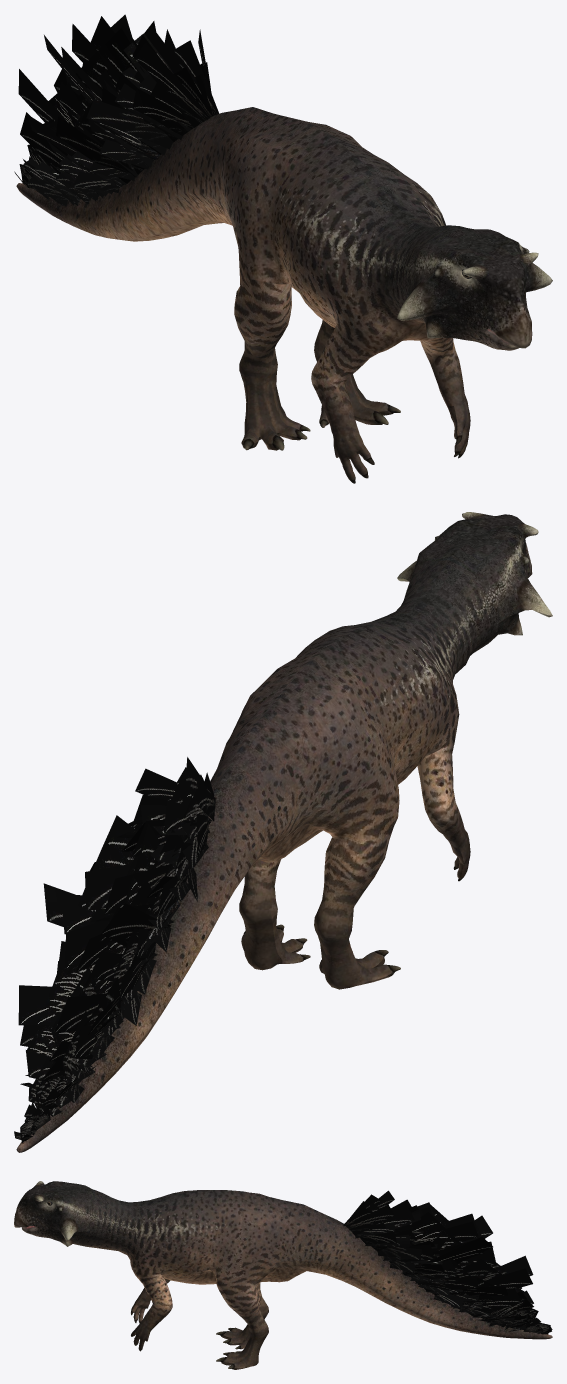
File: Psittacosaurio.glb
The picture shows the model from 3 angles, top to bottom: view 1: azimuth 30°, elevation 25°; view 2: azimuth 150°, elevation 25°; view 3: azimuth 270°, elevation 25°; orthographic projection. The views are drawn at different scales.
Visible parts, largest first — view 1: DW_Psittacosaurio_Ray_mesh; view 2: DW_Psittacosaurio_Ray_mesh; view 3: DW_Psittacosaurio_Ray_mesh.
Part boxes in pixels (x1,y1,x2,y2): DW_Psittacosaurio_Ray_mesh: (14, 14, 552, 483); DW_Psittacosaurio_Ray_mesh: (14, 512, 552, 1152); DW_Psittacosaurio_Ray_mesh: (14, 1181, 552, 1369).
Size of the model in its own units: 0.1773 by 0.3404 by 1.
Materials: 3 (3 with a texture image).
